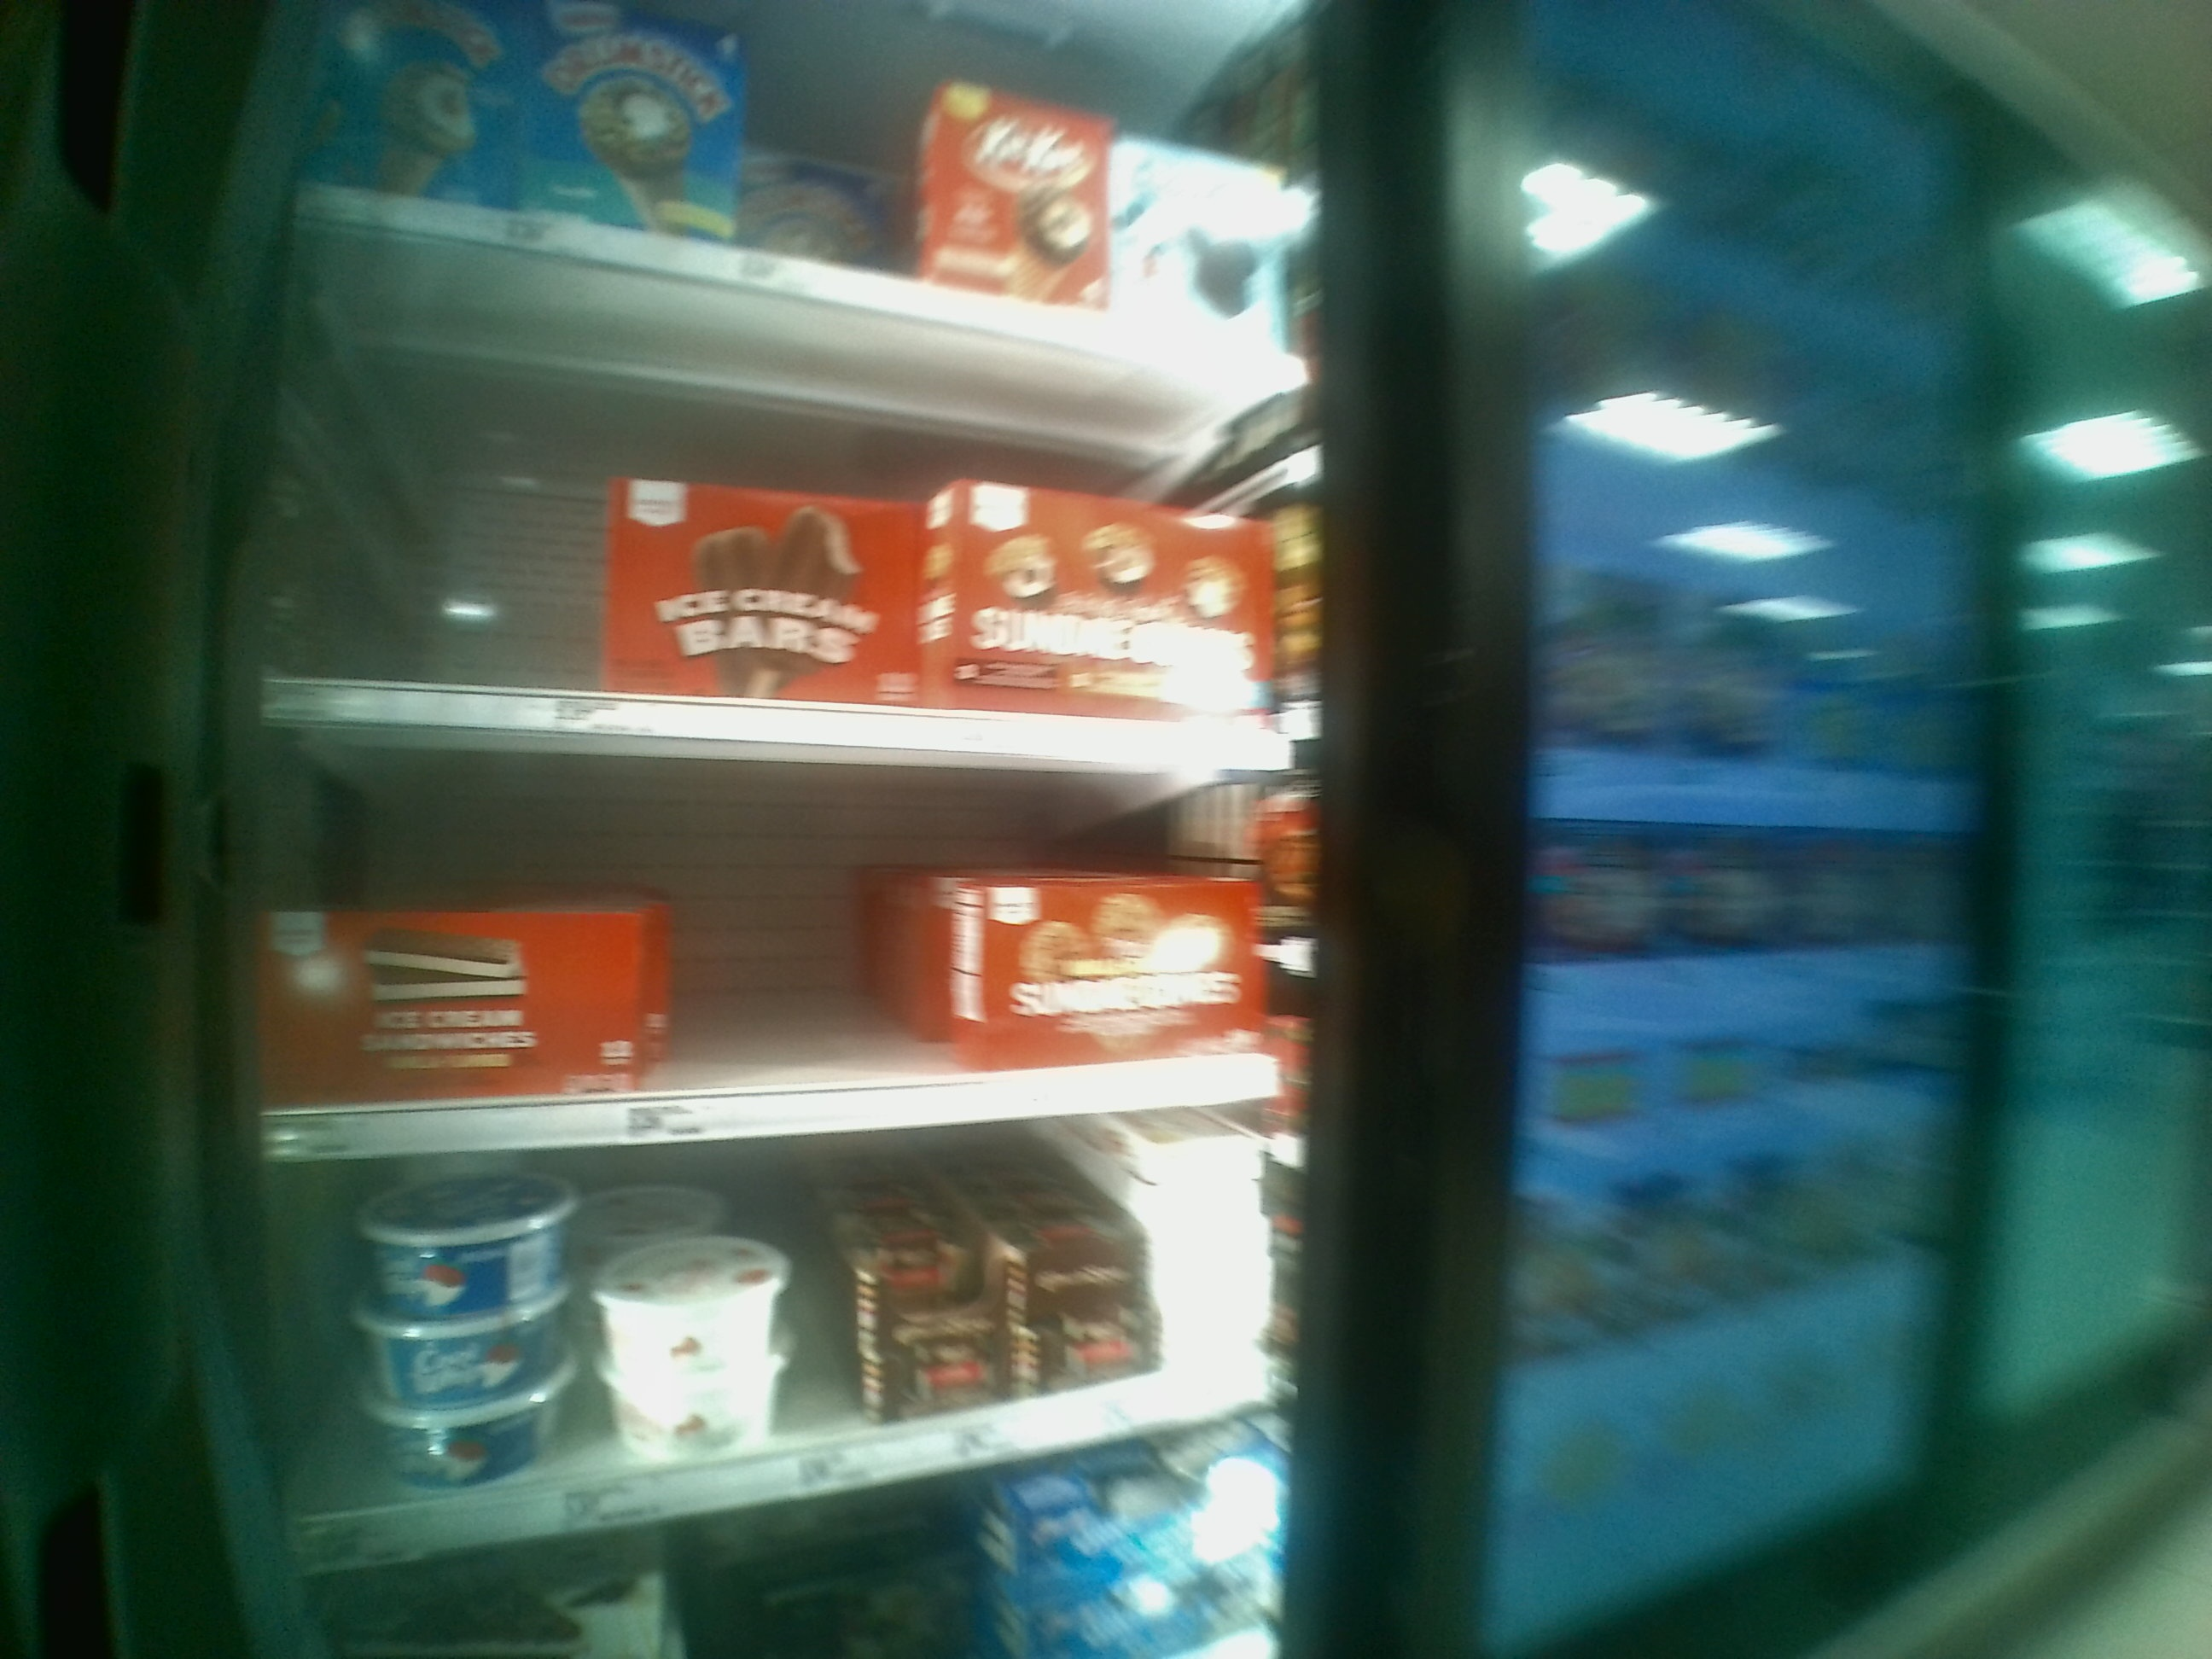shelf: (284, 216, 1303, 772), (270, 1094, 1320, 1567), (246, 721, 1325, 1154)
